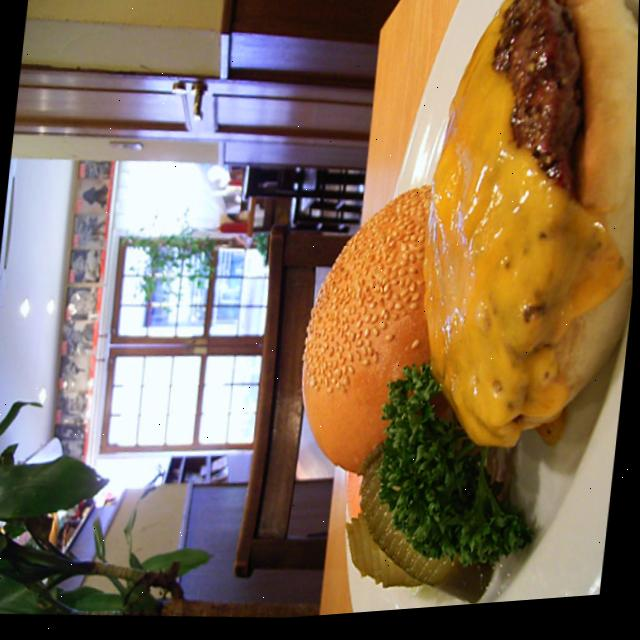汉堡快餐: (273, 0, 640, 531)
